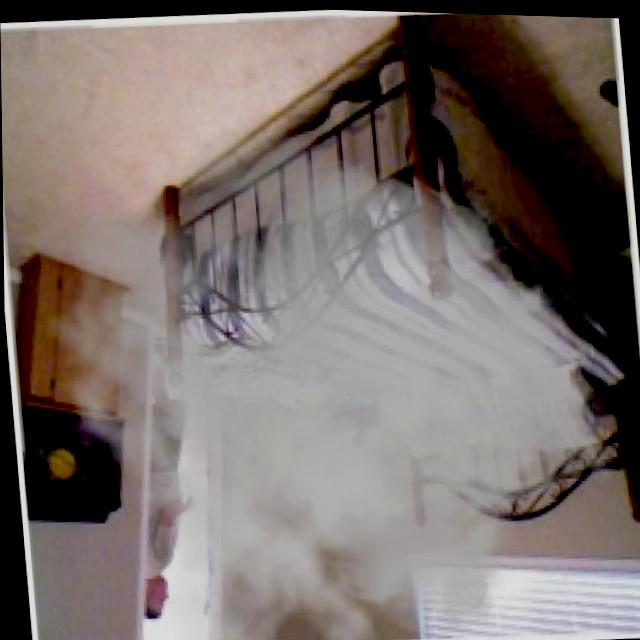no_helmet: (25, 107, 629, 640)
